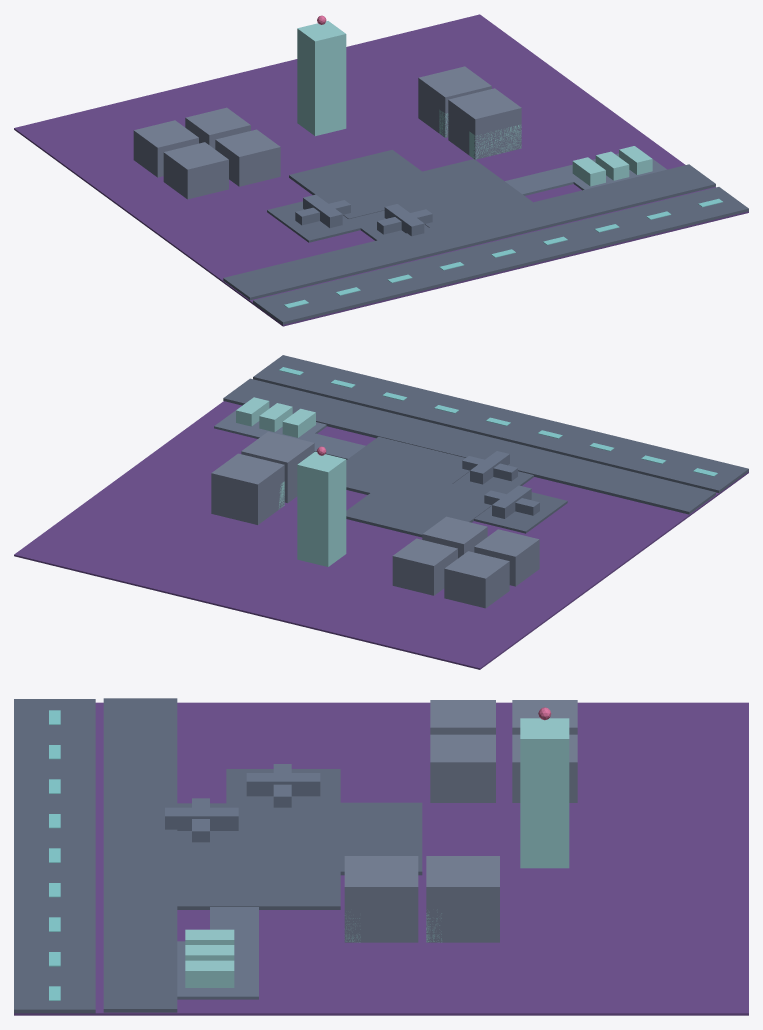
File: stage_14.glb
The picture shows the model from 3 angles, top to bottom: view 1: azimuth 30°, elevation 25°; view 2: azimuth 150°, elevation 25°; view 3: azimuth 270°, elevation 25°; orthographic projection. The views are drawn at different scales.
Visible parts, largest first — view 1: geometry_0; view 2: geometry_0; view 3: geometry_0.
Boxes of the visible parts, bbox=[...] form: geometry_0: bbox=[14, 14, 748, 326]; geometry_0: bbox=[14, 355, 748, 669]; geometry_0: bbox=[14, 698, 748, 1015].
Bounding box in the file's own units: 9 × 2.06 × 9.
